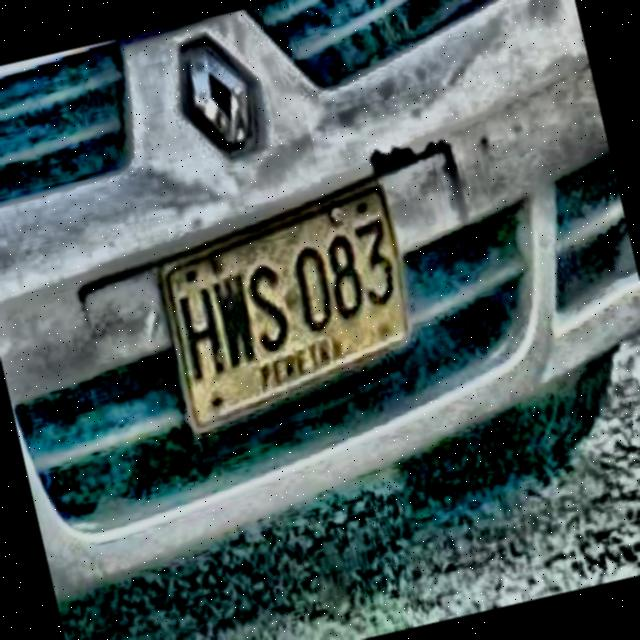0: (287, 235, 341, 339)
3: (350, 213, 400, 318)
8: (319, 224, 370, 330)
H: (175, 283, 232, 388)
S: (243, 256, 297, 357)
W: (209, 268, 261, 372)
